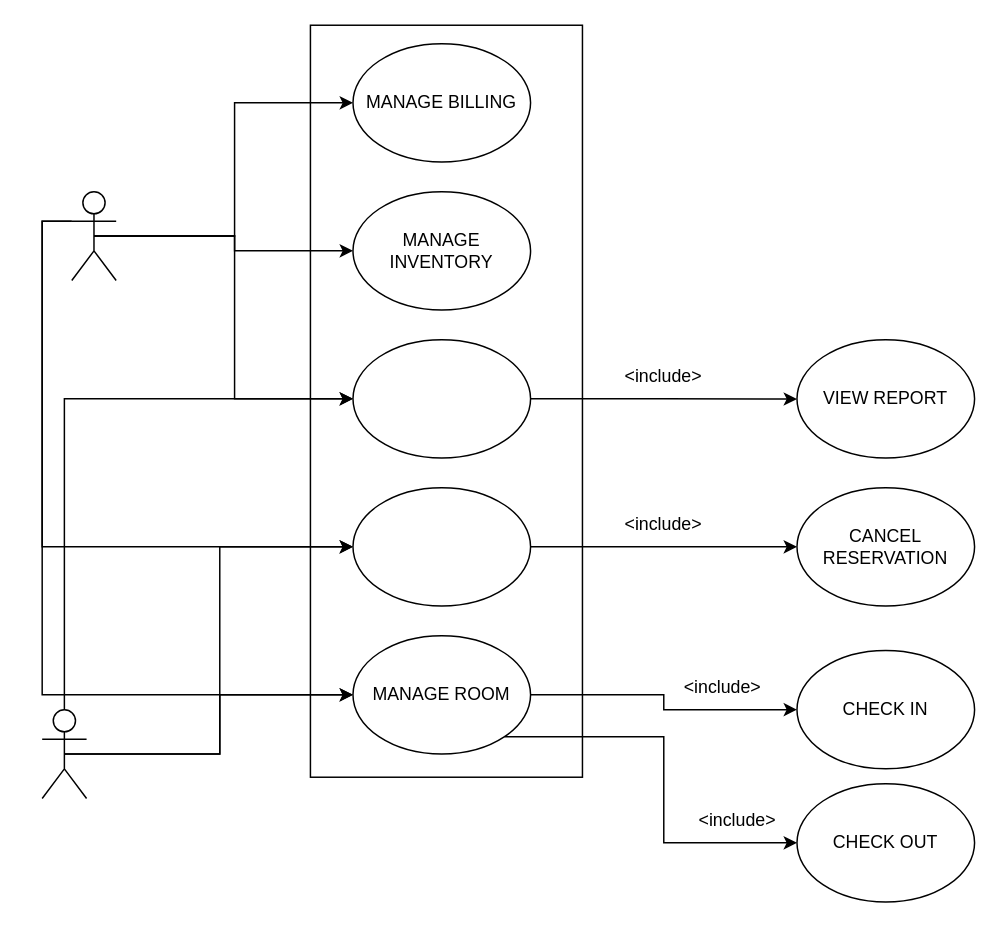
Image size: 1000x929. Some labels were removed from this diagram. Each missing label, with the centre of its shape:
"Customer" goes at (64,753).
"MANAGE REPORT" goes at (441,398).
"MANAGE RESERVATION" goes at (441,546).
"Staff" goes at (93,235).
